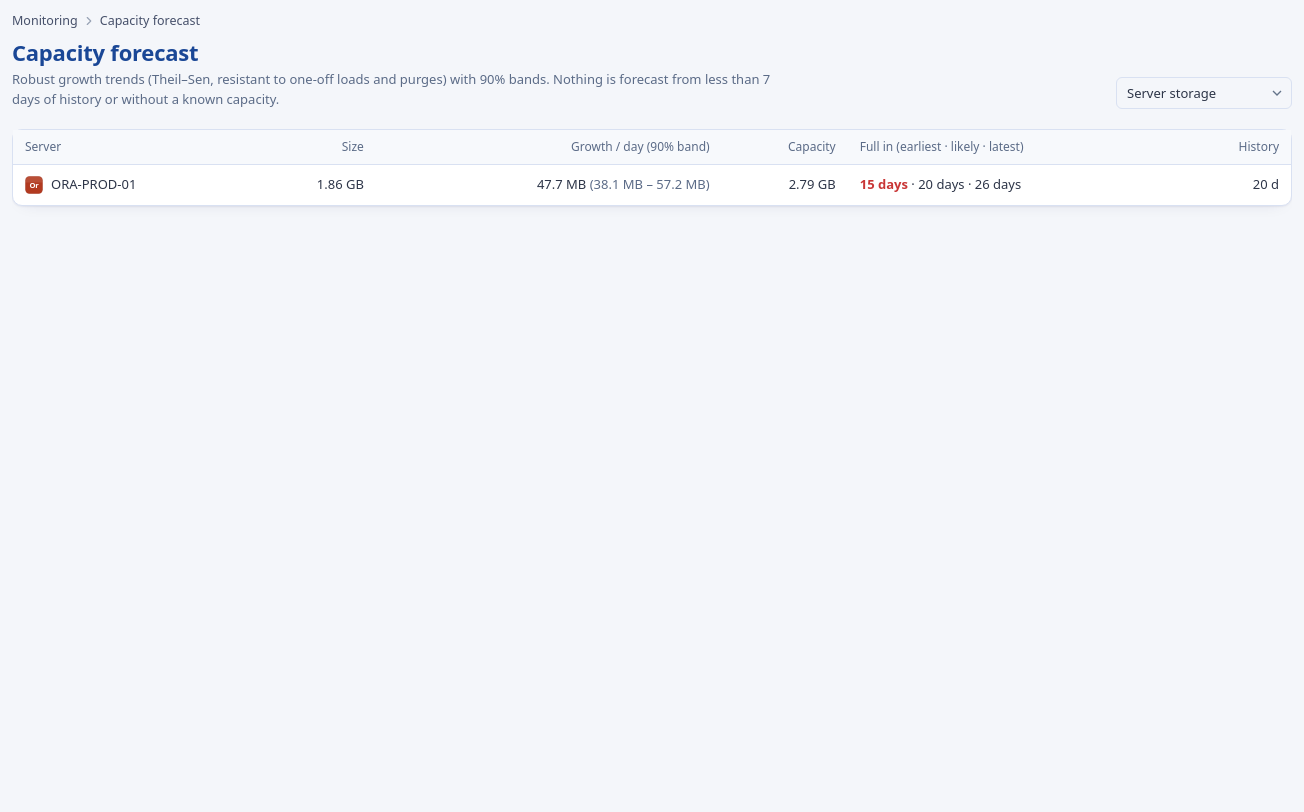
Test: capacity forecast › shows days to full with the band and opens the chart
Select "Tablespaces" in the dropdown named "Scope": (1204, 93) [1116,77,1292,109]
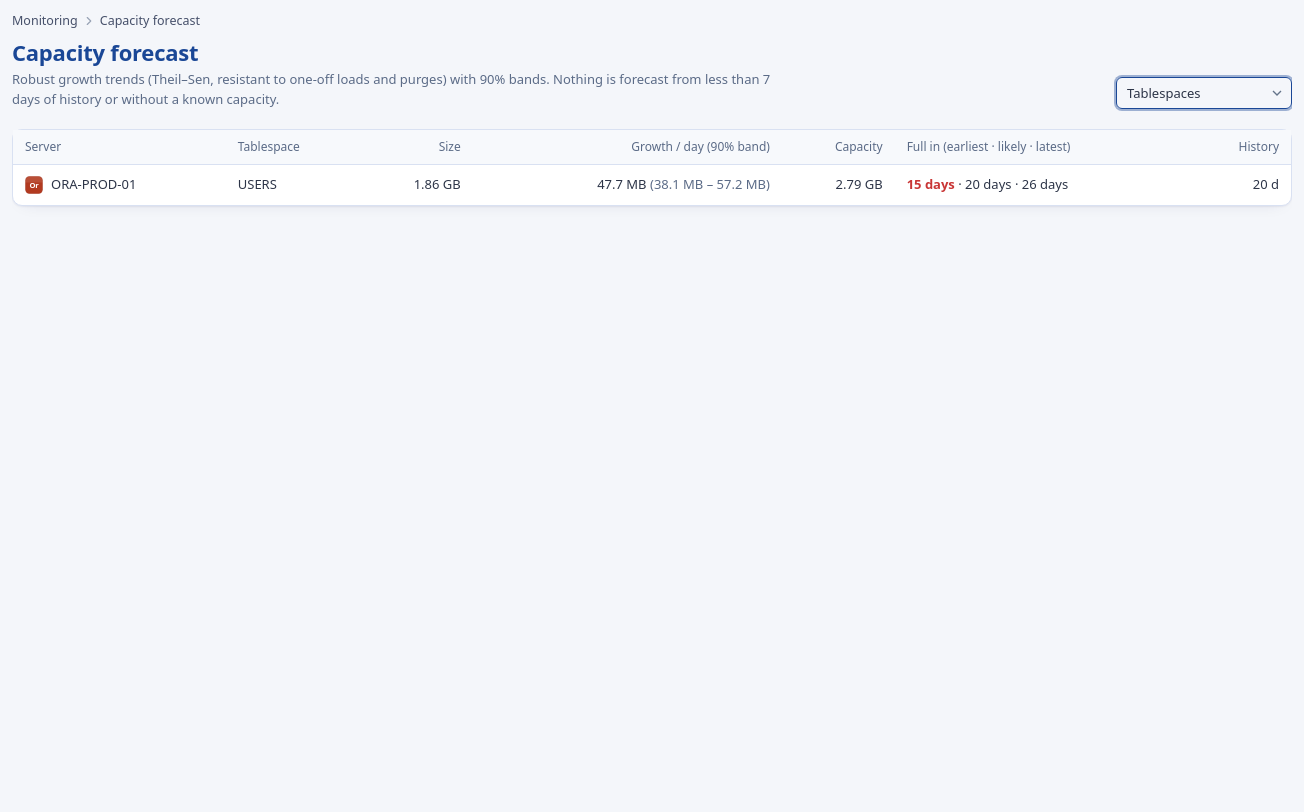
Expected: the text "15 days" is shown, [907,175,955,193]
Result: the text "USERS" is shown
Click the text "USERS": (257, 184) [226,165,361,205]
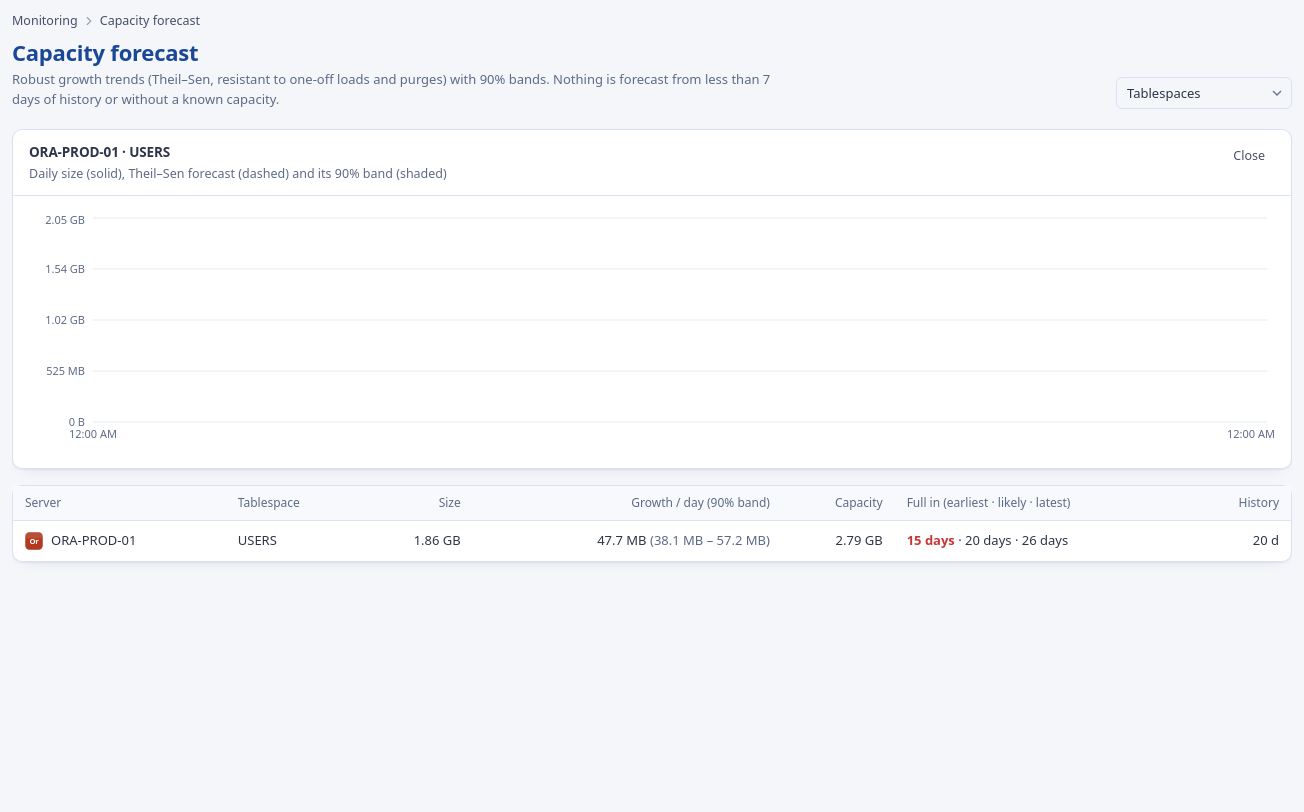
Result: the picture named "forecast with a 90 percent band" is shown at [29,212,1275,452]
